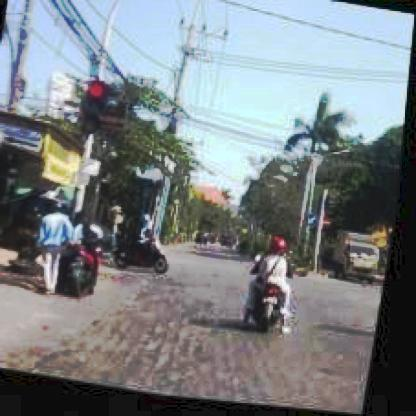Traffic Light -Red-: (83, 85, 111, 143)
